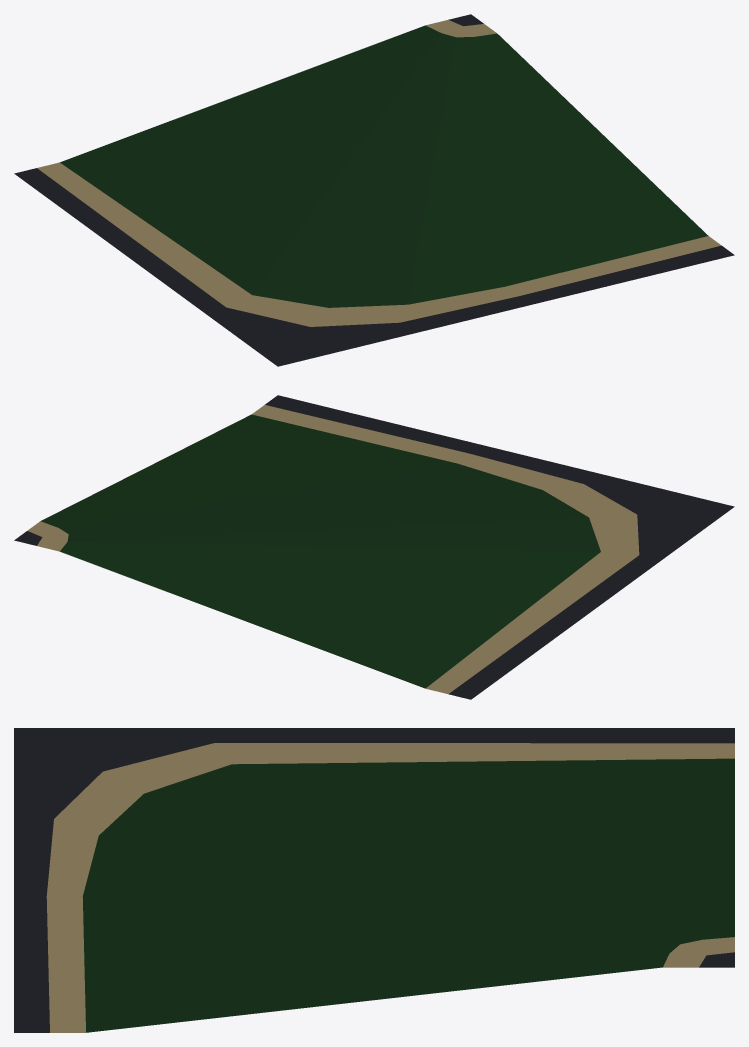
Rendered from terrain_plains_duga.fbx.
3 views of the same model, one above another, from view 1: azimuth 30°, elevation 25°; view 2: azimuth 150°, elevation 25°; view 3: azimuth 270°, elevation 25° (orthographic). The views are drawn at different scales.
Visible parts, largest first — view 1: terrain_coast_duga1; view 2: terrain_coast_duga1; view 3: terrain_coast_duga1.
Part boxes in pixels (x1,y1,x2,y2): terrain_coast_duga1: (14,14,734,366); terrain_coast_duga1: (14,395,734,699); terrain_coast_duga1: (14,728,734,1032).
Size of the model in its own units: 10 by 1 by 10.
